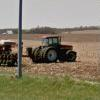Tractor: (21, 31, 80, 70)
